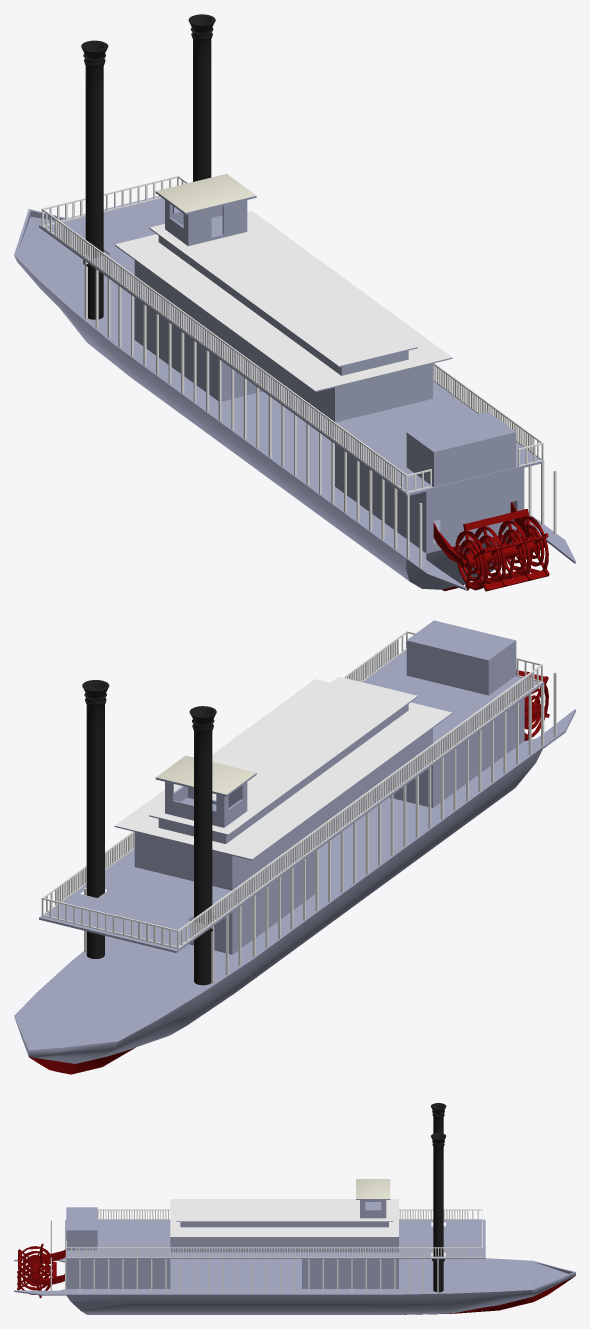
The model's file is riverboat-01.obj.
The picture shows the model from 3 angles, top to bottom: view 1: azimuth 30°, elevation 25°; view 2: azimuth 150°, elevation 25°; view 3: azimuth 270°, elevation 25°; orthographic projection. The views are drawn at different scales.
Visible parts, largest first — view 1: BOAT_1; view 2: BOAT_1; view 3: BOAT_1.
Part boxes in pixels (box(x1,y1,x2,y2)): BOAT_1: box(14, 14, 575, 591); BOAT_1: box(14, 620, 575, 1074); BOAT_1: box(14, 1103, 575, 1314).
Size of the model in its own units: 43.75 by 101 by 270.
